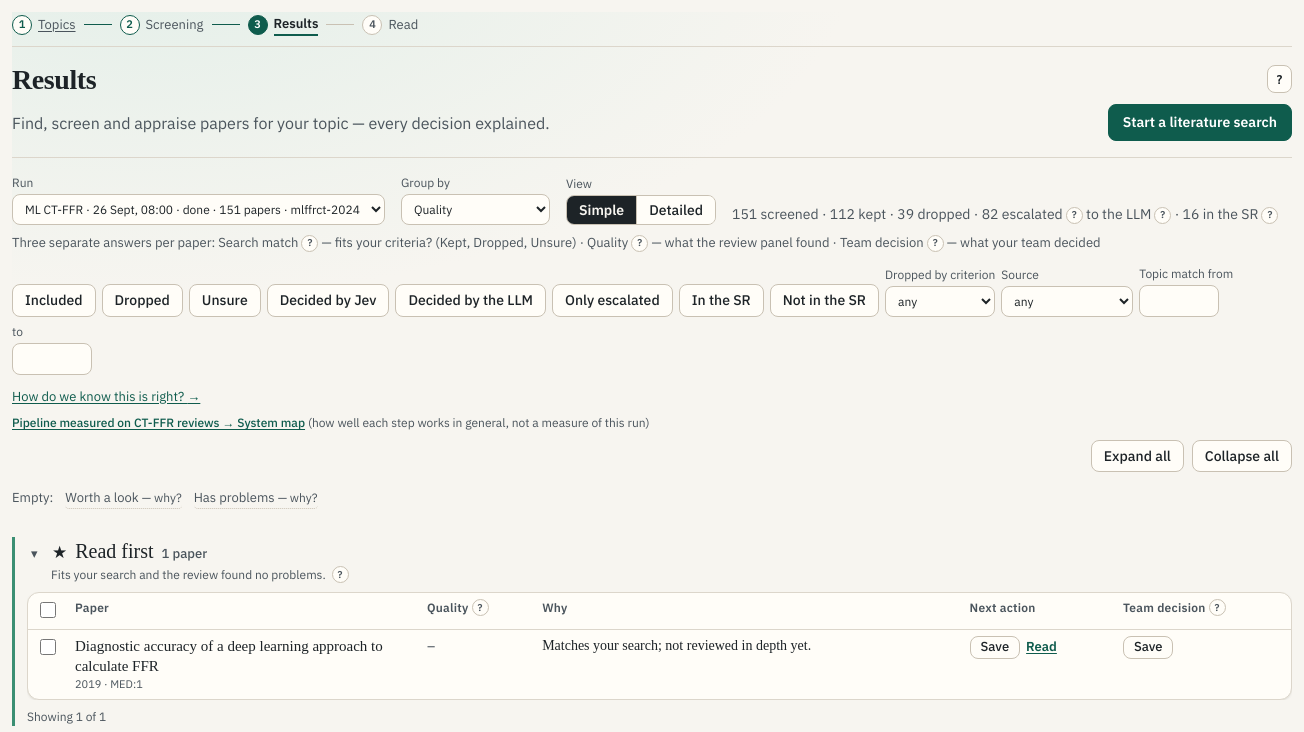
Test: quality groups › group by is in the URL; None is the flat list with its pager
Select "Year" in the dropdown labelled "Group by": x=476, y=210 [401,194,550,225]
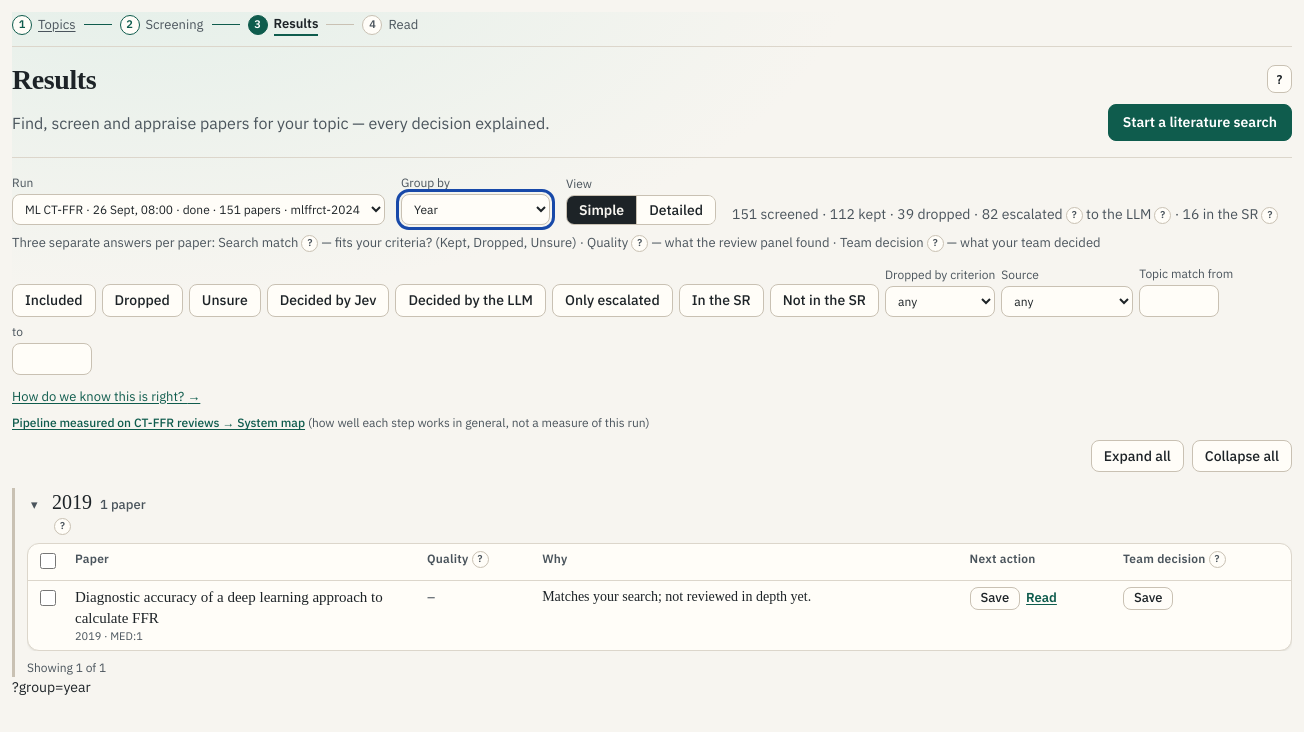
expect the text named "location" shows "group=year": met, box [12,678,91,696]
expect the button "▾ 2019 1 paper" is shown: met, box [27,488,150,517]
Select "None (flat list)" in the dropdown labelled "Group by": x=476, y=210 [401,194,550,225]
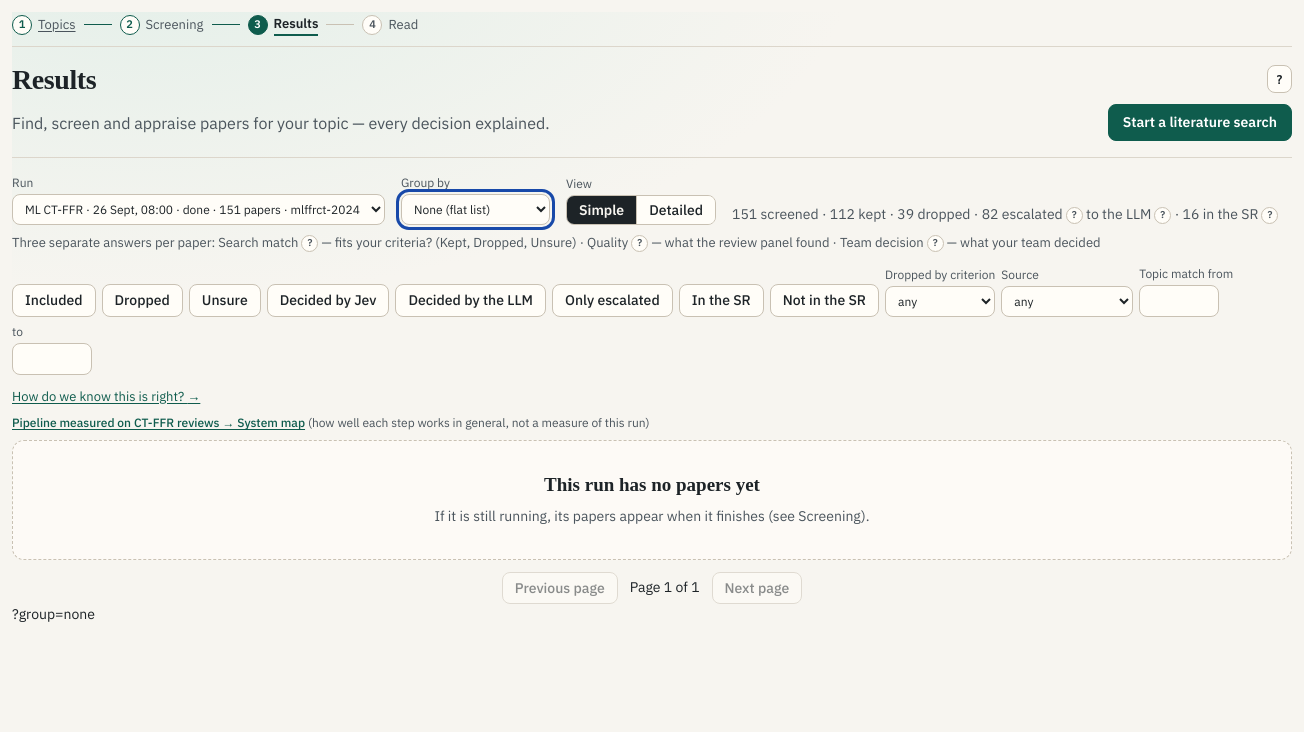
expect the text "Page 1 of 1" is shown: met, box [630,577,700,598]
expect the button "Collapse all" is gone: met
